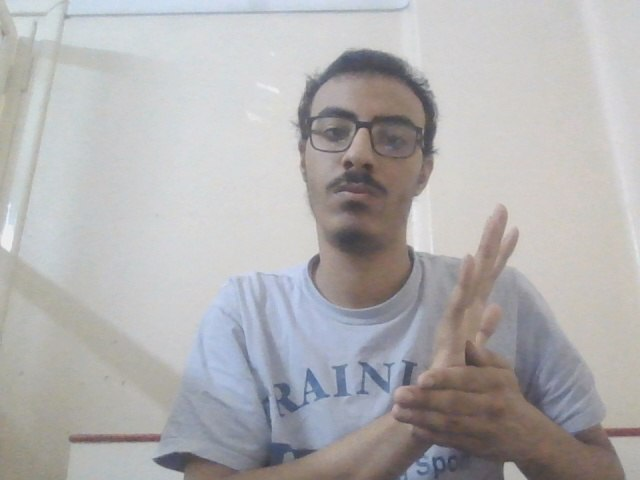Movie: (390, 202, 551, 462)
